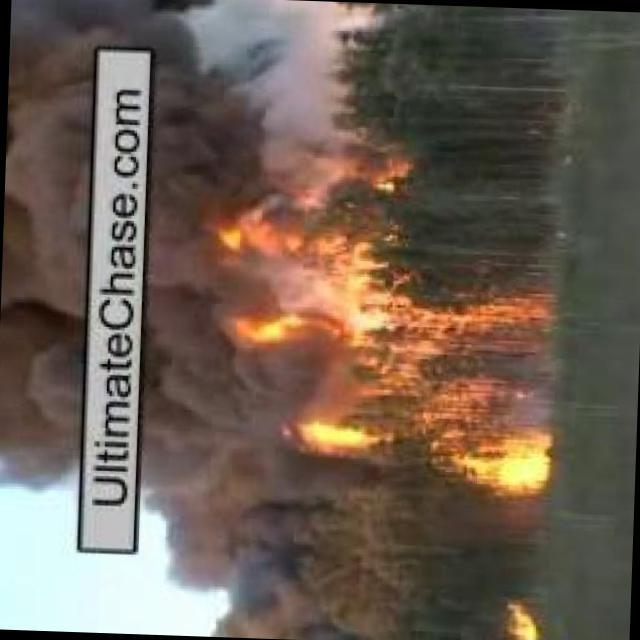Fire: (199, 265, 553, 358), (271, 400, 558, 500), (204, 148, 418, 261), (493, 602, 544, 640)
